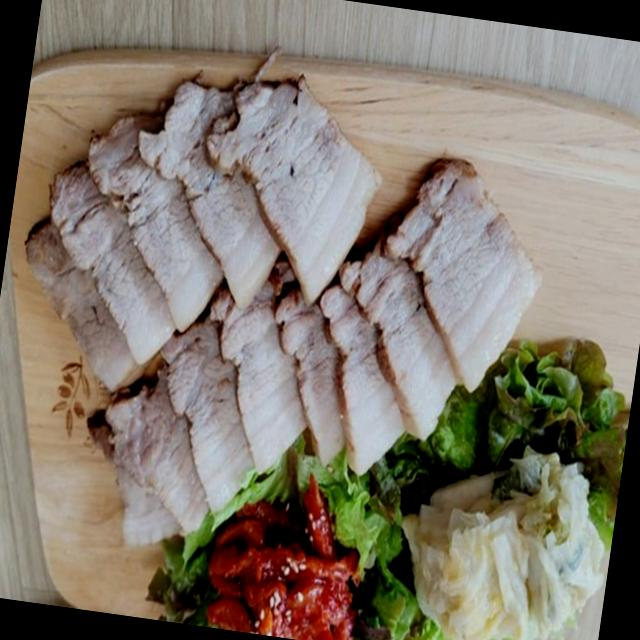thit luoc: (26, 81, 380, 391), (275, 161, 538, 473), (89, 275, 306, 546)
